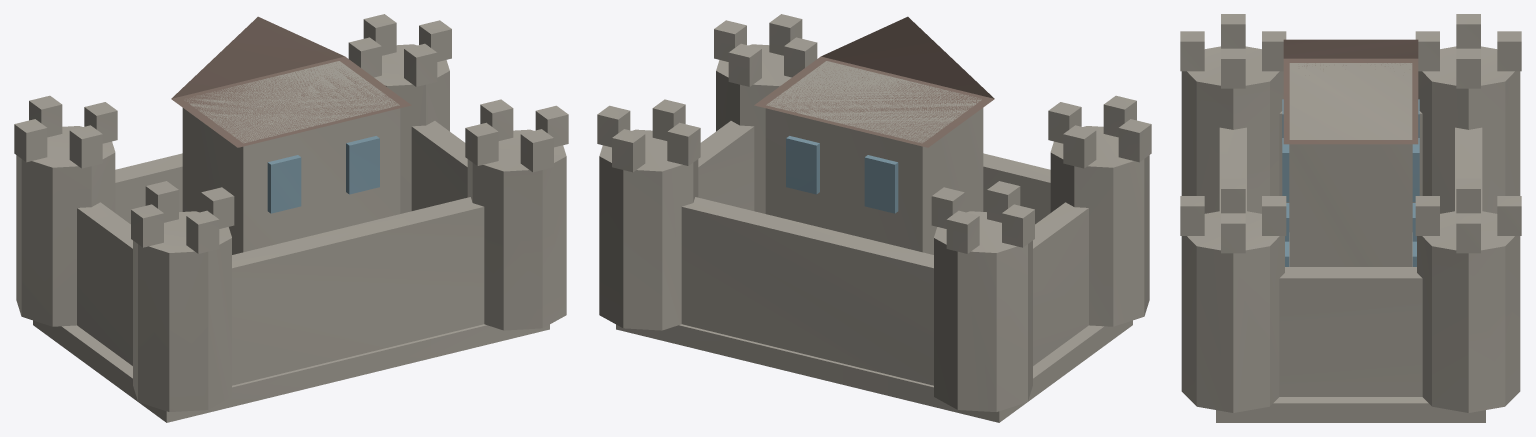
Rendered from castle-03.glb.
3 views of the same model, side by side, from view 1: azimuth 30°, elevation 25°; view 2: azimuth 150°, elevation 25°; view 3: azimuth 270°, elevation 25° (orthographic).
Visible parts, largest first — view 1: world; view 2: world; view 3: world.
Boxes of the visible parts, x1,y1,x2,y2 form: world: (14,14,568,422); world: (597,14,1151,422); world: (1180,14,1521,422).
Bounding box in the file's own units: 1.82 × 1.17 × 1.25.
